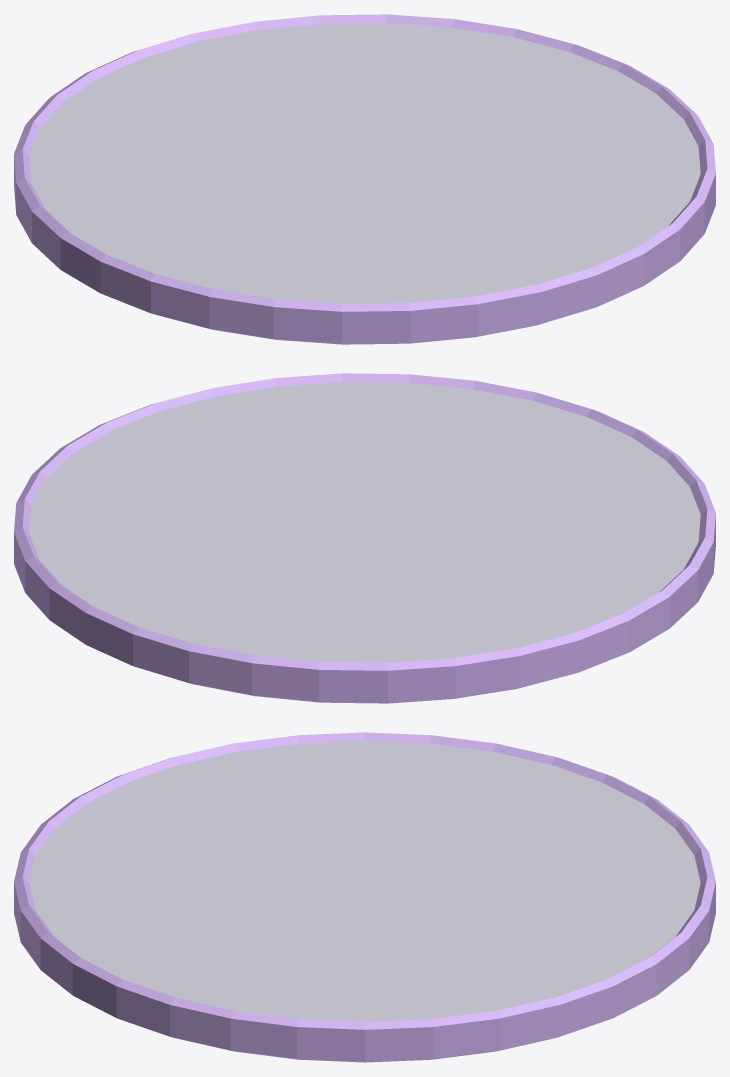
File: Espejo.fbx
The picture shows the model from 3 angles, top to bottom: view 1: azimuth 30°, elevation 25°; view 2: azimuth 150°, elevation 25°; view 3: azimuth 270°, elevation 25°; orthographic projection.
Parts seen in each view (by area): view 1: Espejo, Borde; view 2: Espejo, Borde; view 3: Espejo, Borde.
Boxes of the visible parts, left/top/right/bottom form: Espejo: left=29, top=23, right=700, bottom=303; Borde: left=14, top=14, right=715, bottom=344; Espejo: left=29, top=382, right=700, bottom=662; Borde: left=14, top=373, right=715, bottom=703; Espejo: left=29, top=741, right=700, bottom=1021; Borde: left=14, top=732, right=715, bottom=1062.
Size of the model in its own units: 400 by 25.59 by 400.
2 materials, 1 textured.
